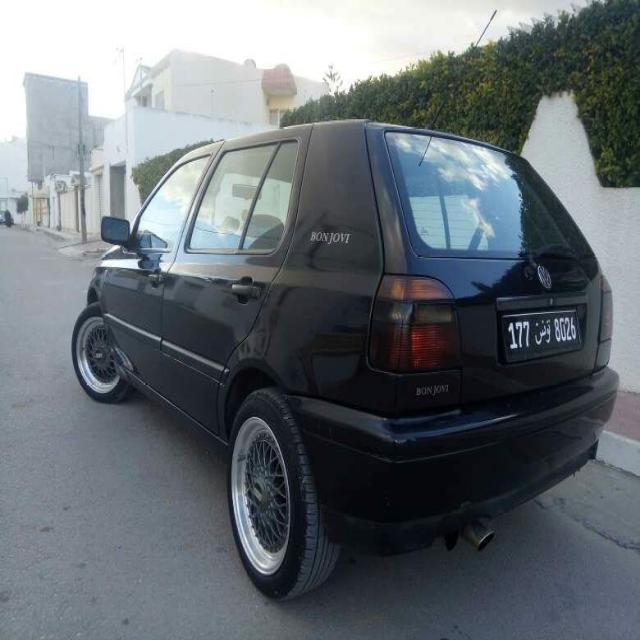LP: (501, 308, 584, 350)
